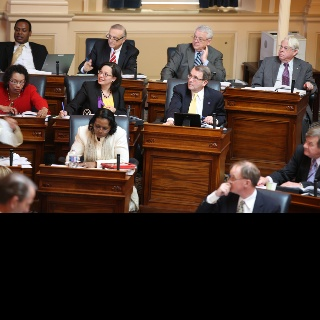without_mask: (227, 167, 244, 193), (8, 72, 25, 94), (303, 136, 320, 157), (13, 21, 29, 43), (187, 68, 203, 90), (93, 118, 110, 138), (277, 40, 294, 60), (192, 29, 207, 49), (97, 65, 112, 84), (108, 29, 122, 47)
